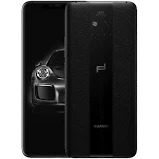vsmart: (63, 1, 139, 158)
